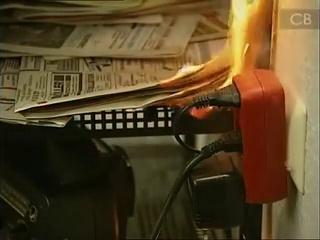Fire: (124, 1, 262, 119)
